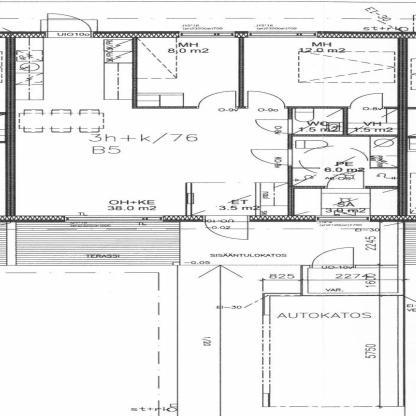door: (44, 12, 101, 40), (201, 213, 255, 242), (309, 246, 366, 270), (247, 147, 300, 169), (194, 90, 240, 110), (245, 90, 290, 110), (324, 170, 366, 190), (254, 118, 296, 135), (348, 93, 386, 111)
window: (60, 214, 170, 224), (314, 214, 382, 225), (245, 31, 318, 40), (175, 30, 240, 40)
